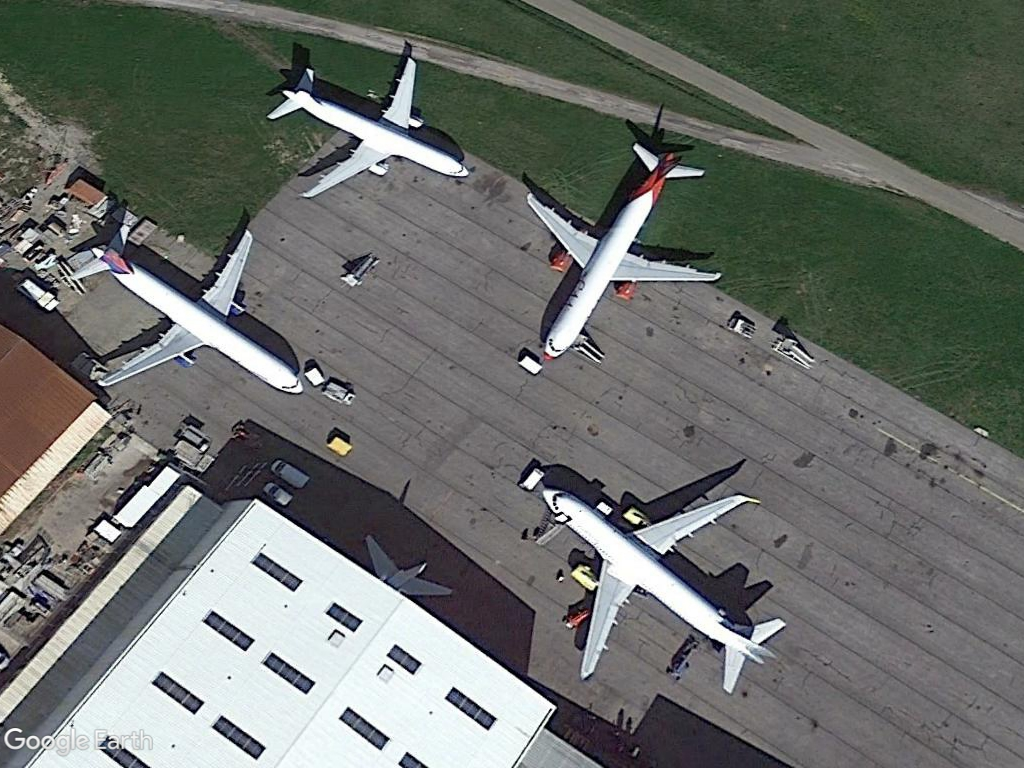airliner: (533, 482, 781, 694), (522, 140, 726, 368), (70, 225, 311, 401), (263, 60, 471, 199)
stairtruck: (769, 333, 819, 371), (338, 250, 382, 289)
